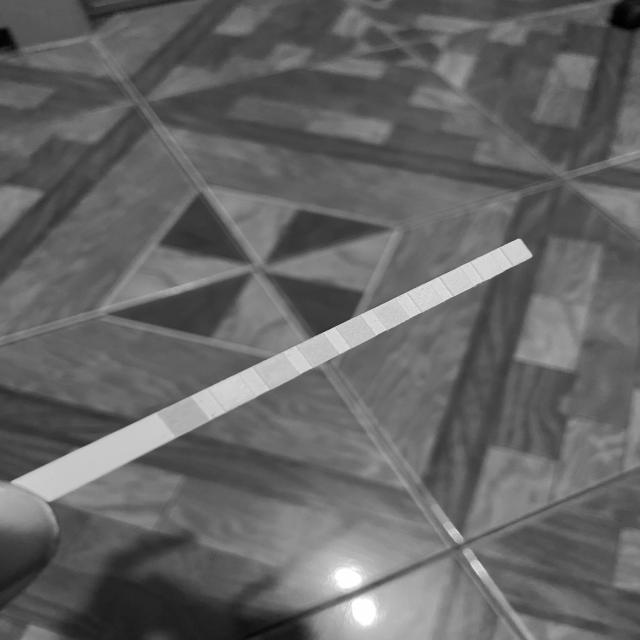Bilirubin: (218, 383, 248, 401)
Blood: (344, 322, 367, 341)
Glucose: (170, 406, 199, 426)
Ketone: (263, 361, 290, 381)
Leukocytes: (504, 245, 526, 256)
Nitrite: (478, 257, 494, 274)
Protein: (415, 288, 436, 305)
SpGravity: (306, 340, 330, 360)
Urobilinogen: (447, 272, 466, 289)
background: (0, 0, 640, 640)
pH: (381, 305, 401, 323)
strip: (36, 238, 535, 497)
